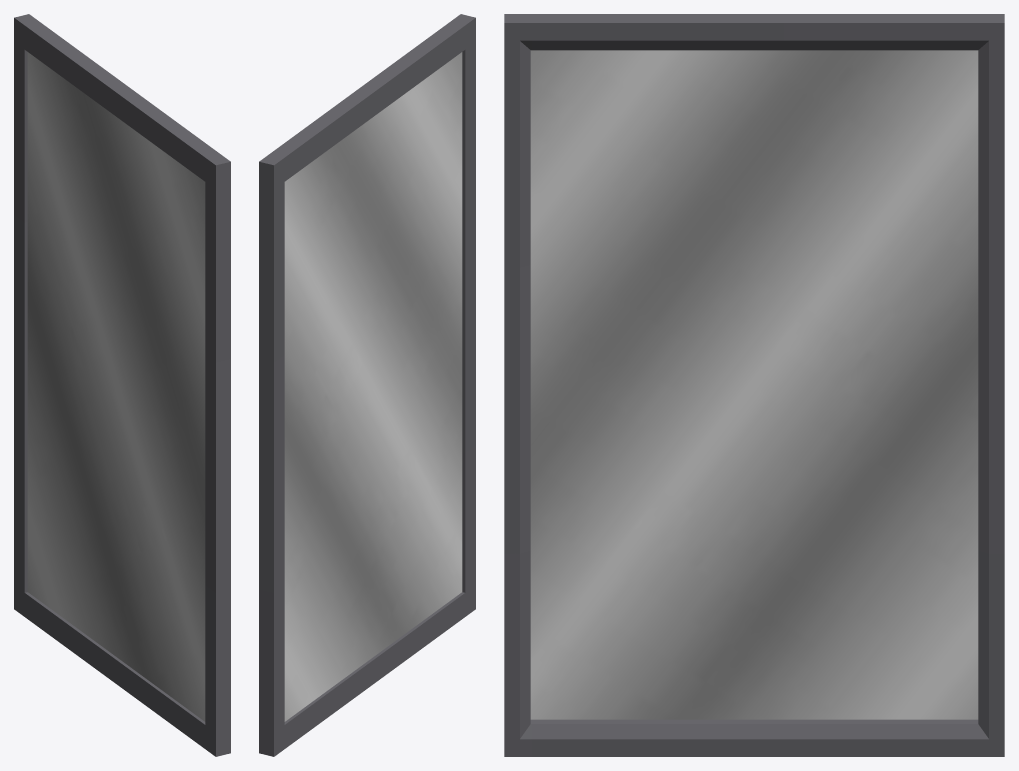
The model's file is espelho.glb.
3 views of the same model, side by side, from view 1: azimuth 30°, elevation 25°; view 2: azimuth 150°, elevation 25°; view 3: azimuth 270°, elevation 25° (orthographic). The views are drawn at different scales.
Visible parts, largest first — view 1: Espelho; view 2: Espelho; view 3: Espelho.
Part boxes in pixels (<box>): Espelho: <box>14,14,230,756</box>; Espelho: <box>259,14,475,756</box>; Espelho: <box>504,14,1004,756</box>.
Bounding box in the file's own units: 0.0247 × 0.928 × 0.5737.
2 materials, 2 textured.
